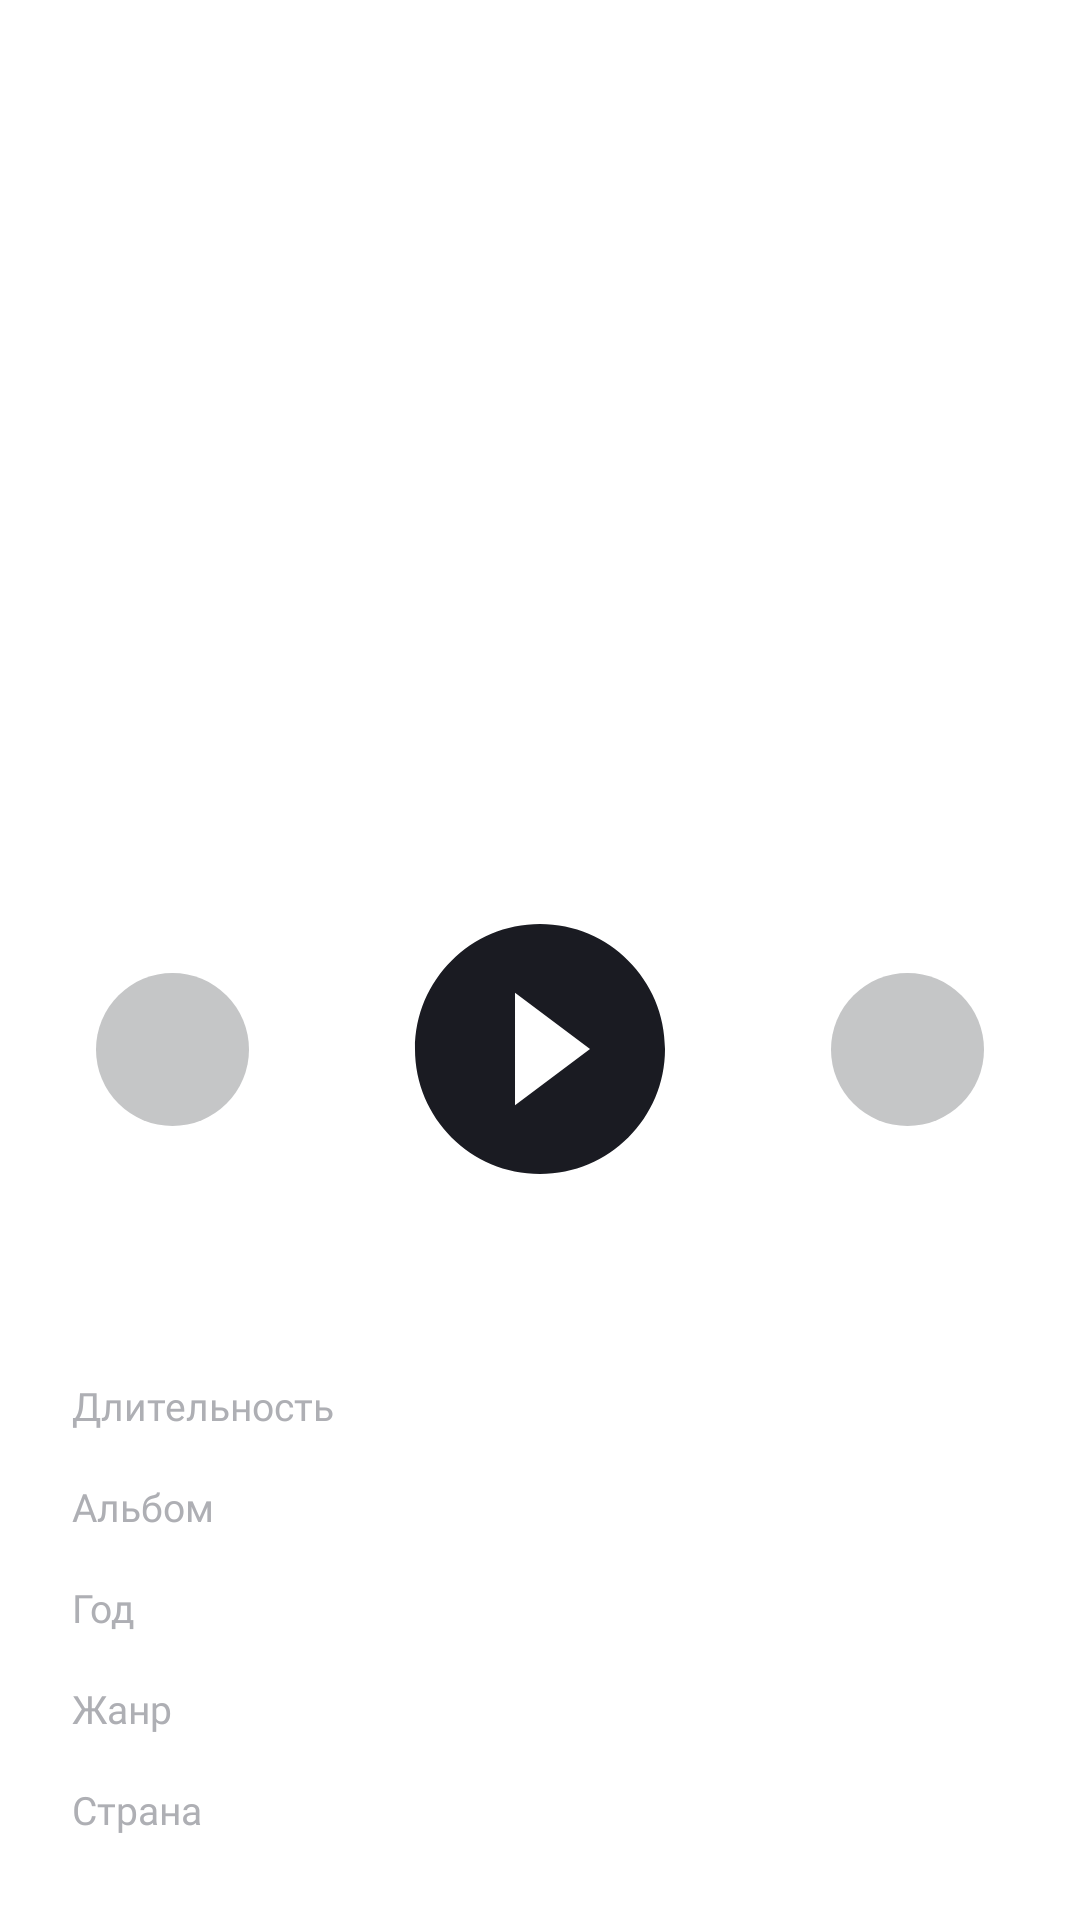

Where to tap for icons on this 1080px x 1920px app screen, as point (x, y):
play: point (540, 1049)
